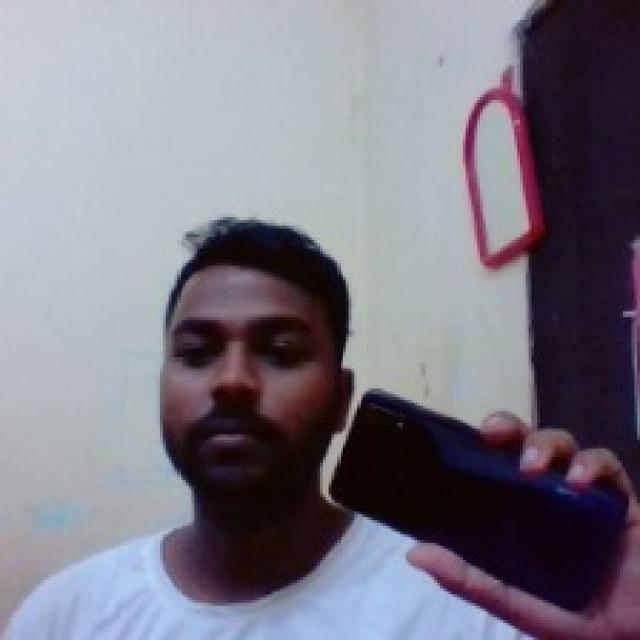Phone: (323, 384, 631, 611)
